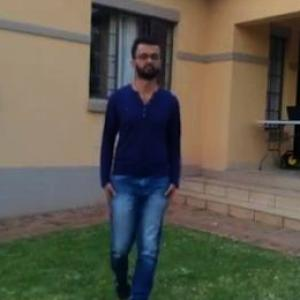follow: (99, 26, 186, 288)
